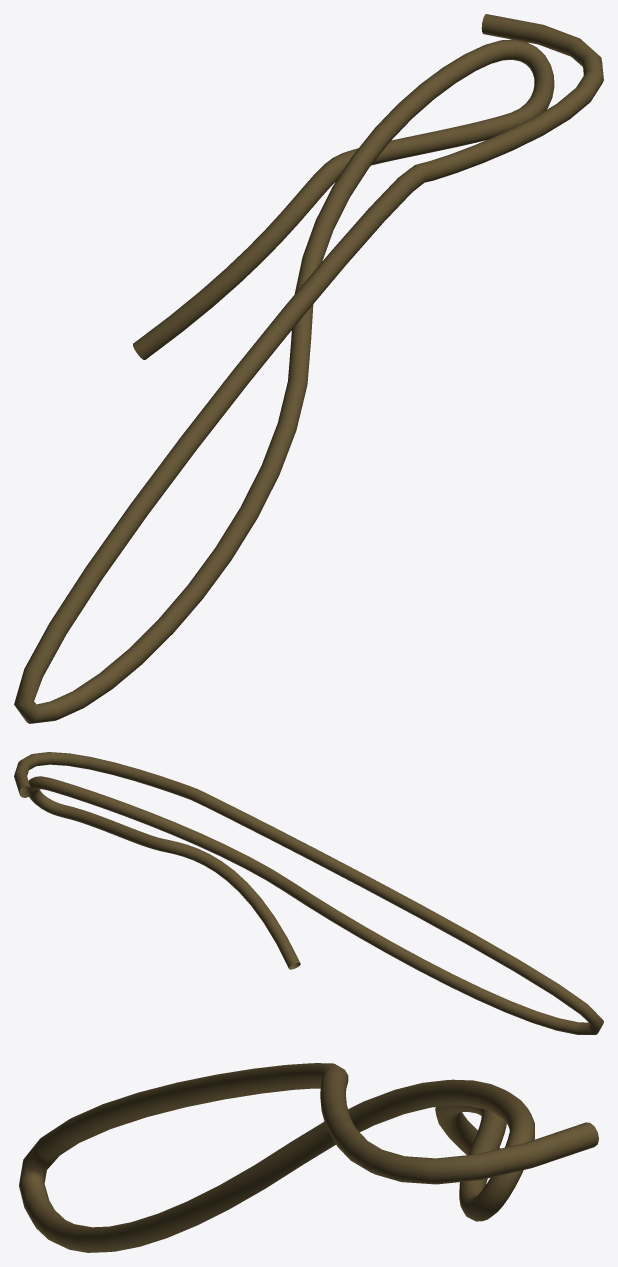
3 renders of one model, top to bottom at view 1: azimuth 30°, elevation 25°; view 2: azimuth 150°, elevation 25°; view 3: azimuth 270°, elevation 25°, orthographic. The views are drawn at different scales.
Parts seen in each view (by area): view 1: BezierCurve.040; view 2: BezierCurve.040; view 3: BezierCurve.040.
Part boxes in pixels (x1,y1,x2,y2): BezierCurve.040: [14, 14, 603, 723]; BezierCurve.040: [14, 752, 603, 1034]; BezierCurve.040: [19, 1063, 598, 1252].
Size of the model in its own units: 0.9235 by 0.4618 by 0.4888.
